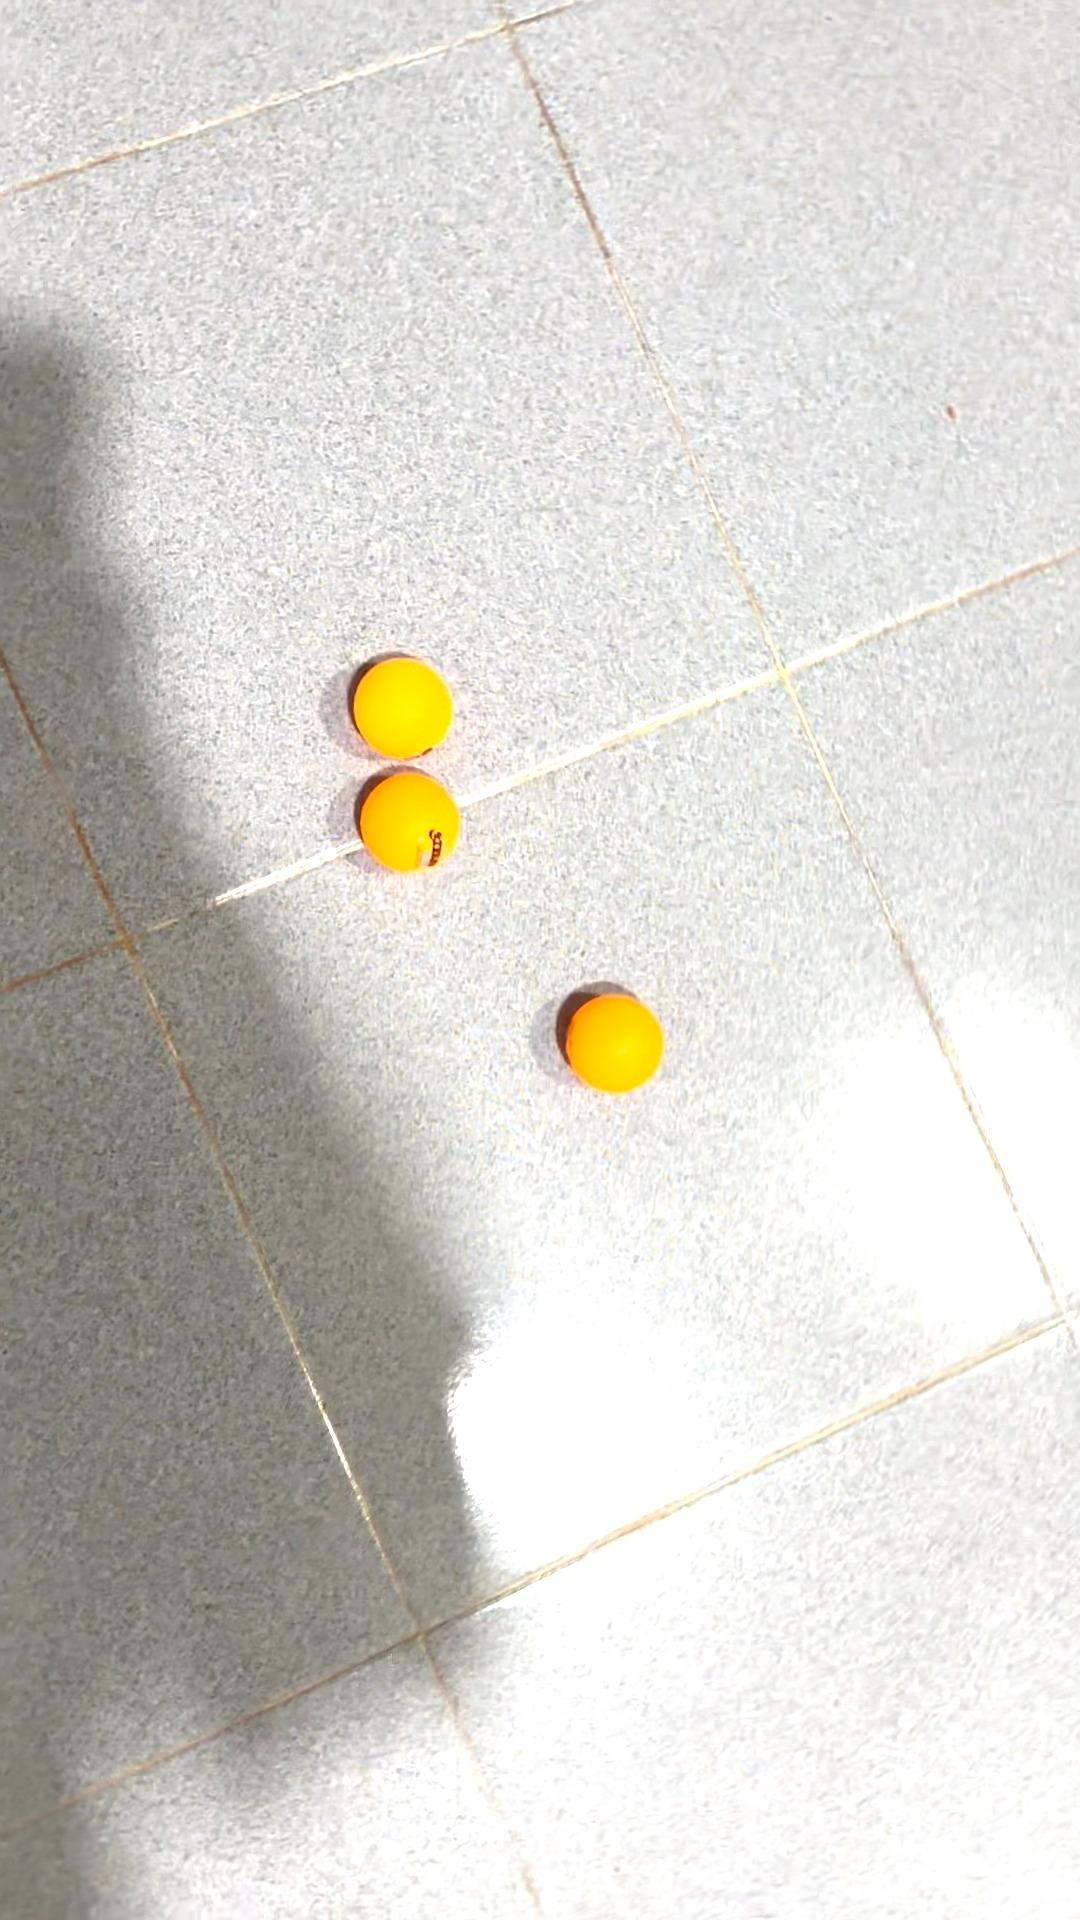oball: (344, 638, 464, 760), (551, 971, 669, 1093), (345, 770, 468, 876)
